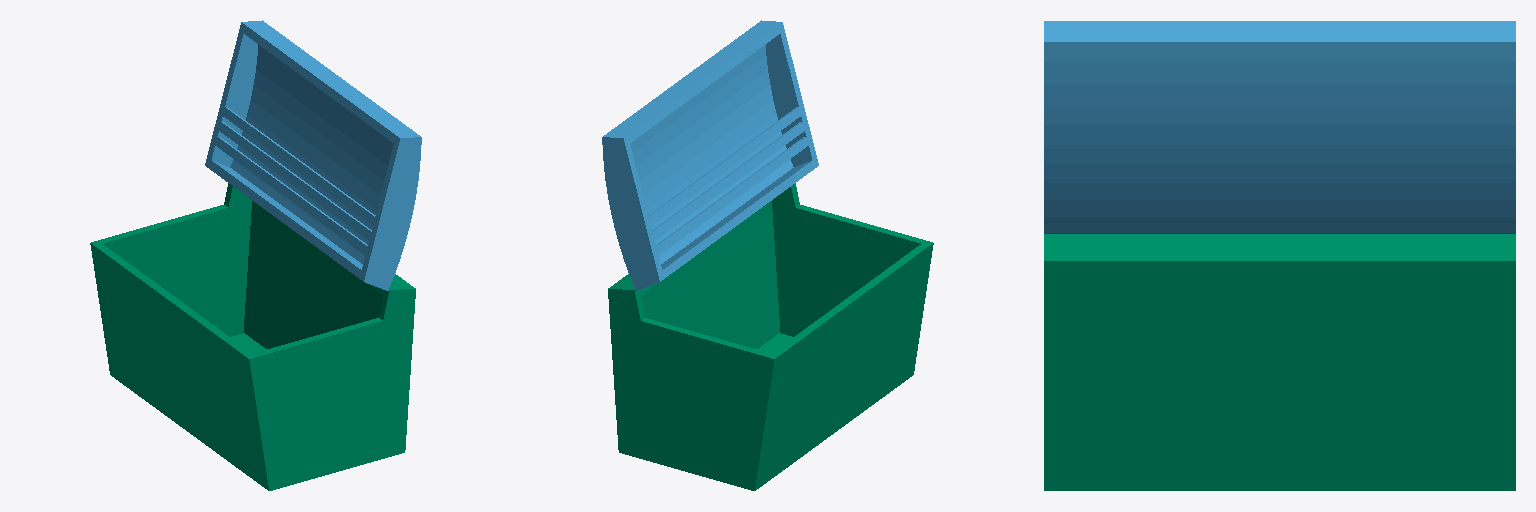
The robot description file, URDF, robot "partnet_dbac3b858ce8b14483e99a083b61b6a3":
<?xml version="1.0" ?>
<robot name="partnet_dbac3b858ce8b14483e99a083b61b6a3">
	<link name="base"/>
	<link name="link_0">
		<visual name="rotation_lid-1">
			<origin xyz="-0.6091959999999998 -0.2159913714805891 0.1393929269641485"/>
			<geometry>
				<mesh filename="textured_objs/original-2.obj"/>
			</geometry>
		</visual>
		<collision>
			<origin xyz="-0.6091959999999998 -0.2159913714805891 0.1393929269641485"/>
			<geometry>
				<mesh filename="textured_objs/original-2.obj"/>
			</geometry>
		</collision>
	</link>
	<joint name="joint_0" type="revolute">
		<origin xyz="0.6091959999999998 0.2159913714805891 -0.1393929269641485"/>
		<axis xyz="-1 0 0"/>
		<child link="link_0"/>
		<parent link="link_1"/>
		<limit lower="-1.8849555921538759" upper="1.300619358586174"/>
	</joint>
	<link name="link_1">
		<visual name="base_body-2">
			<origin xyz="0 0 0"/>
			<geometry>
				<mesh filename="textured_objs/original-1.obj"/>
			</geometry>
		</visual>
		<collision>
			<origin xyz="0 0 0"/>
			<geometry>
				<mesh filename="textured_objs/original-1-part-0.obj"/>
			</geometry>
		</collision>
		<collision>
			<origin xyz="0 0 0"/>
			<geometry>
				<mesh filename="textured_objs/original-1-part-1.obj"/>
			</geometry>
		</collision>
		<collision>
			<origin xyz="0 0 0"/>
			<geometry>
				<mesh filename="textured_objs/original-1-part-2.obj"/>
			</geometry>
		</collision>
		<collision>
			<origin xyz="0 0 0"/>
			<geometry>
				<mesh filename="textured_objs/original-1-part-3.obj"/>
			</geometry>
		</collision>
		<collision>
			<origin xyz="0 0 0"/>
			<geometry>
				<mesh filename="textured_objs/original-1-part-4.obj"/>
			</geometry>
		</collision>
		<collision>
			<origin xyz="0 0 0"/>
			<geometry>
				<mesh filename="textured_objs/original-1-part-5.obj"/>
			</geometry>
		</collision>
		<collision>
			<origin xyz="0 0 0"/>
			<geometry>
				<mesh filename="textured_objs/original-1-part-6.obj"/>
			</geometry>
		</collision>
		<collision>
			<origin xyz="0 0 0"/>
			<geometry>
				<mesh filename="textured_objs/original-1-part-7.obj"/>
			</geometry>
		</collision>
	</link>
	<joint name="joint_1" type="fixed">
		<origin rpy="1.570796326794897 0 -1.570796326794897" xyz="0 0 0"/>
		<child link="link_1"/>
		<parent link="base"/>
	</joint>
</robot>

--- Facts derived from the render (not from the file) ---
3 views of the same robot in one strip: view 1: azimuth 30°, elevation 25°; view 2: azimuth 150°, elevation 25°; view 3: azimuth 270°, elevation 25° (orthographic).
Model partnet_dbac3b858ce8b14483e99a083b61b6a3 with 3 links and 2 joints (1 revolute, 1 fixed), rooted at base, posed all joints at 0.
Links seen in each view (by area): view 1: link_1, link_0; view 2: link_1, link_0; view 3: link_1, link_0.
Link boxes in pixels (x1=…): link_1: x1=90, y1=183, x2=415, y2=490; link_0: x1=205, y1=20, x2=421, y2=290; link_1: x1=608, y1=183, x2=933, y2=490; link_0: x1=602, y1=20, x2=818, y2=290; link_1: x1=1044, y1=234, x2=1515, y2=490; link_0: x1=1044, y1=21, x2=1515, y2=233.
Bounding box of the posed robot: 0.7256 × 1.16 × 1.29 m (x, y, z).
2 mesh visuals loaded from 2 distinct referenced files (2 OBJ).
